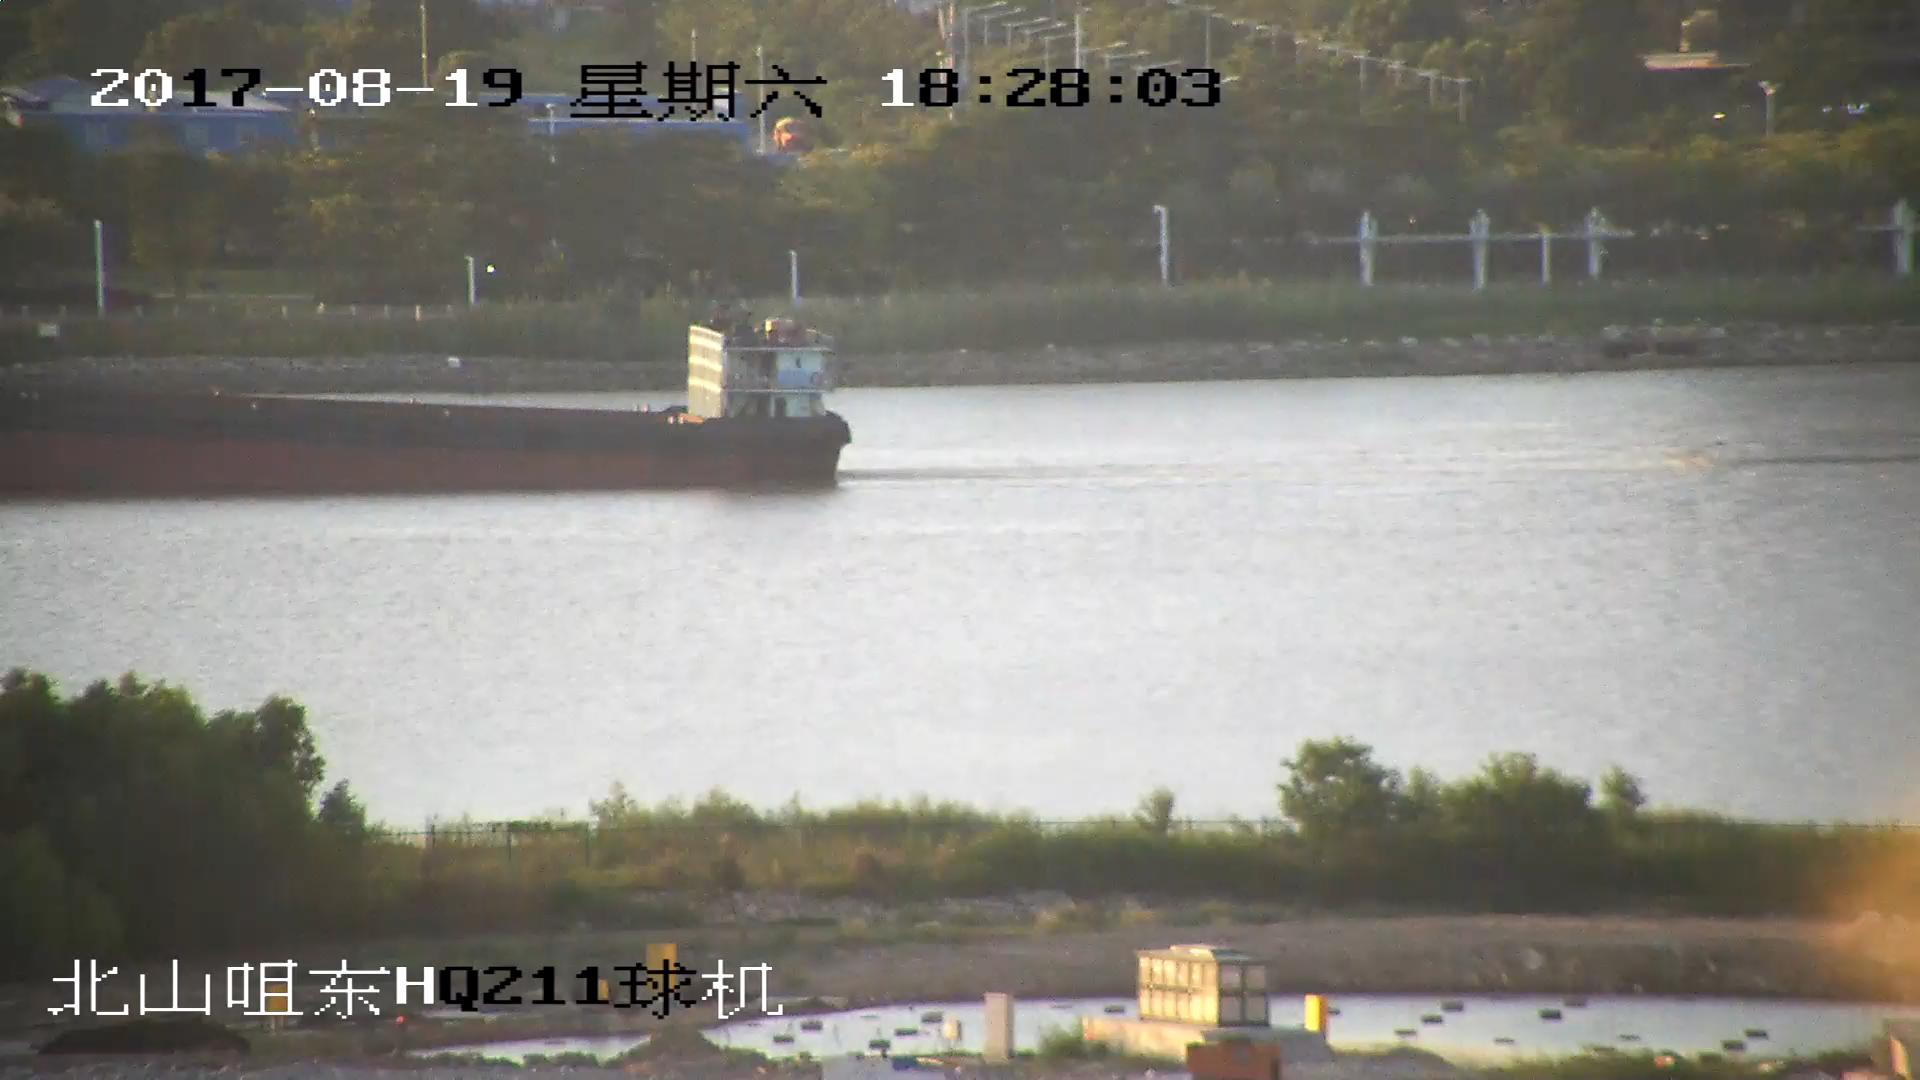general cargo ship: (1, 309, 847, 492)
